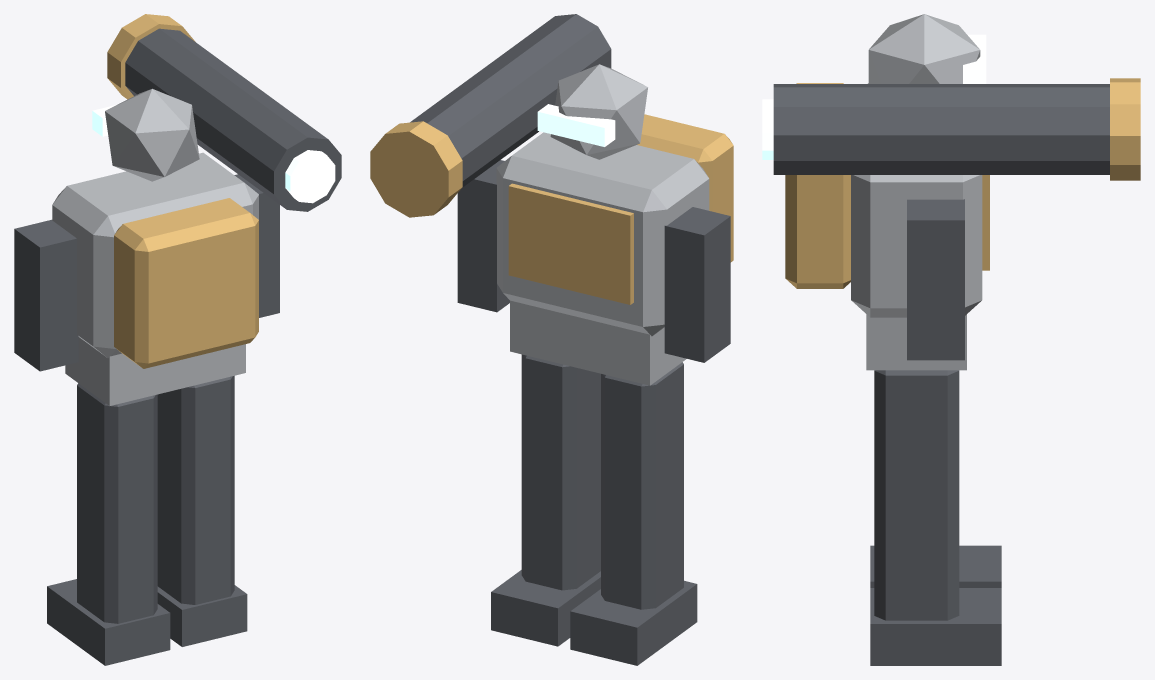
File: rocketeer-CL9ho4z3.glb
3 views of the same model, side by side, from view 1: azimuth 30°, elevation 25°; view 2: azimuth 150°, elevation 25°; view 3: azimuth 270°, elevation 25° (orthographic). The views are drawn at different scales.
Visible parts, largest first — view 1: leg; view 2: leg; view 3: leg.
Part boxes in pixels (box(x1,y1,x2,y2)): leg: box(14, 14, 341, 665); leg: box(370, 14, 733, 665); leg: box(762, 14, 1140, 665).
Size of the model in its own units: 0.381 by 0.8 by 0.448.
